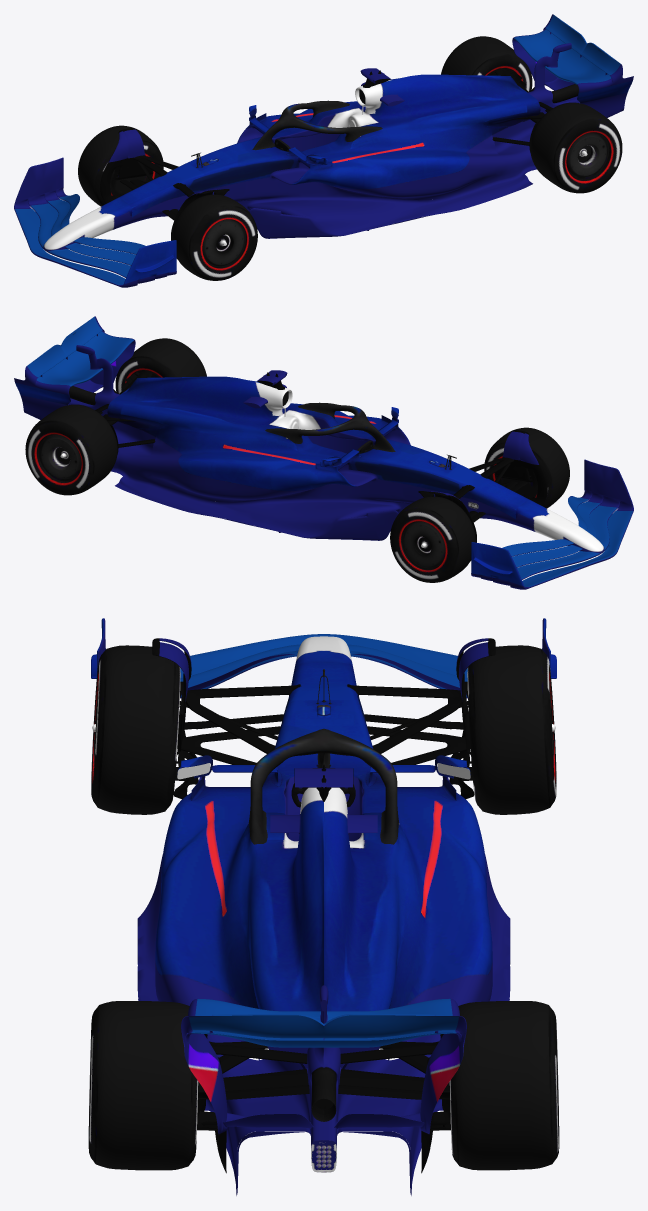
3 renders of one model, top to bottom at view 1: azimuth 30°, elevation 25°; view 2: azimuth 150°, elevation 25°; view 3: azimuth 270°, elevation 25°, orthographic. The views are drawn at different scales.
Parts seen in each view (by area): view 1: Body_4, Tire_RL_9, Tire_FL_5, Tire_FR_7, Tire_RR_11; view 2: Body_4, Tire_RR_11, Tire_FR_7, Tire_FL_5, Tire_RL_9; view 3: Body_4, Tire_RL_9, Tire_RR_11, Tire_FR_7, Tire_FL_5.
Part boxes in pixels (x1,y1,x2,y2): Body_4: (14, 14, 633, 287); Tire_RL_9: (530, 102, 622, 193); Tire_FL_5: (172, 194, 257, 280); Tire_FR_7: (78, 125, 163, 206); Tire_RR_11: (441, 36, 532, 91); Body_4: (14, 316, 633, 589); Tire_RR_11: (25, 404, 117, 495); Tire_FR_7: (390, 496, 475, 582); Tire_FL_5: (484, 427, 569, 508); Tire_RL_9: (115, 338, 206, 393); Body_4: (91, 618, 556, 1195); Tire_RL_9: (88, 1001, 198, 1170); Tire_RR_11: (449, 1001, 559, 1170); Tire_FR_7: (467, 645, 556, 814); Tire_FL_5: (91, 645, 180, 814).
Size of the model in its own units: 8.84 by 1.8 by 3.18.
Materials: 1 (1 with a texture image).
